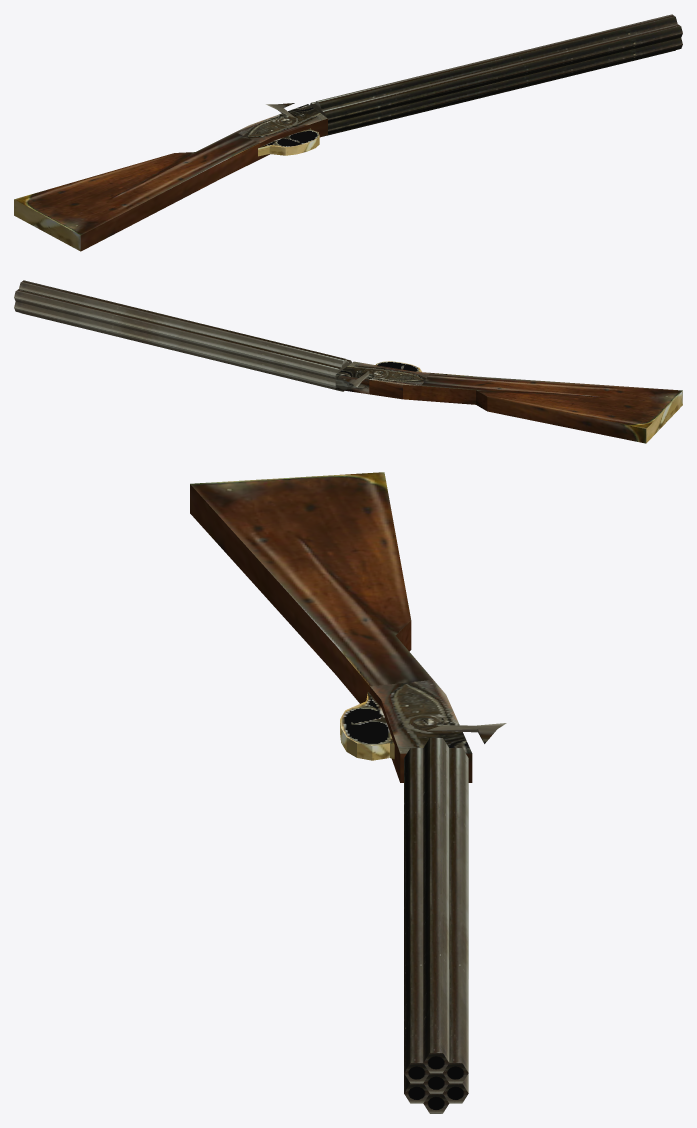
The model's file is nockgun.fbx.
The picture shows the model from 3 angles, top to bottom: view 1: azimuth 30°, elevation 25°; view 2: azimuth 150°, elevation 25°; view 3: azimuth 270°, elevation 25°; orthographic projection. The views are drawn at different scales.
Visible parts, largest first — view 1: nockgun; view 2: nockgun, hammer; view 3: nockgun, hammer.
Part boxes in pixels (box(x1,y1,x2,y2)): nockgun: box(14, 14, 682, 251); nockgun: box(14, 280, 682, 443); hammer: box(341, 369, 386, 387); nockgun: box(190, 472, 472, 1113); hammer: box(410, 714, 506, 743).
Bounding box in the file's own units: 43.56 × 2.08 × 9.79.
